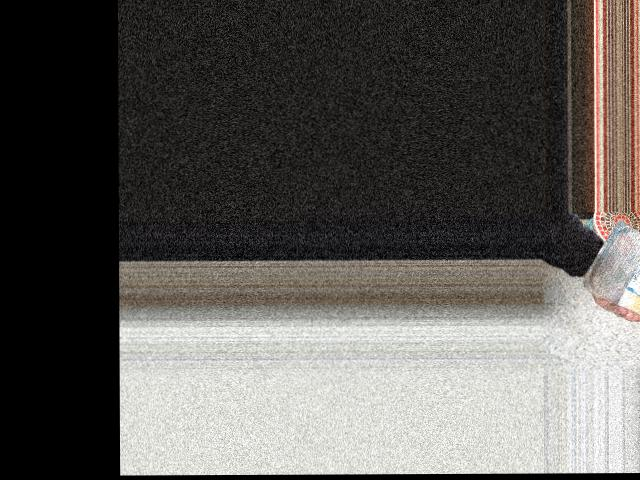cheese: (589, 223, 640, 314)
